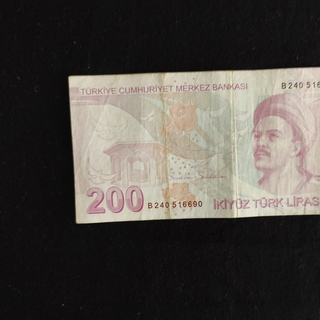200TLBack: (68, 65, 320, 223)
